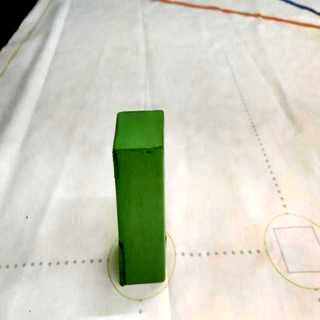greenbox: (111, 108, 168, 286)
